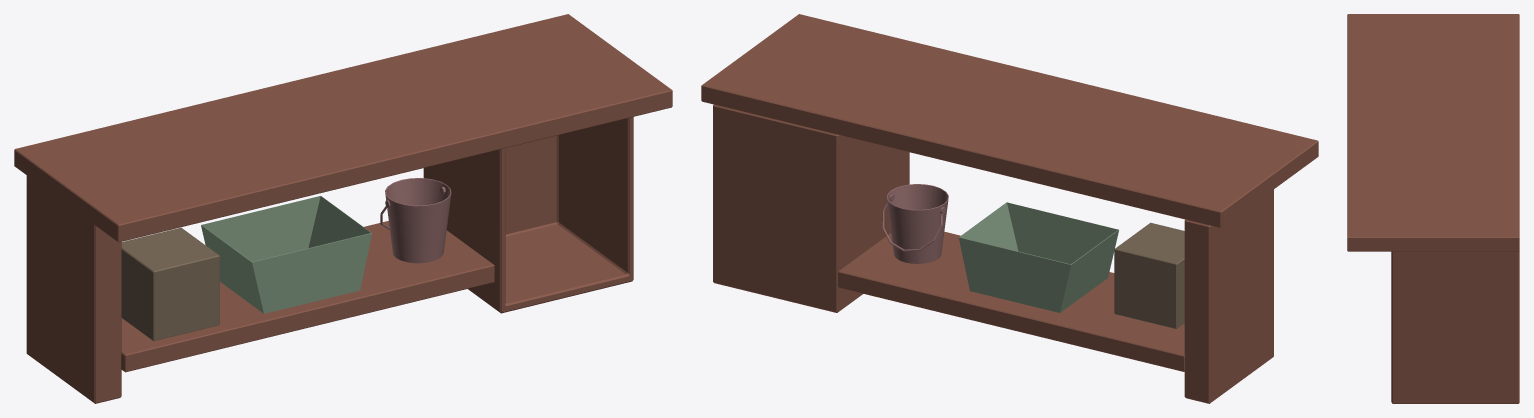
The model's file is WorkbenchGeo.fbx.
3 views of the same model, side by side, from view 1: azimuth 30°, elevation 25°; view 2: azimuth 150°, elevation 25°; view 3: azimuth 270°, elevation 25° (orthographic). The views are drawn at different scales.
Parts seen in each view (by area): view 1: WorkbenchGeo; view 2: WorkbenchGeo; view 3: WorkbenchGeo.
Part boxes in pixels (left/top/right/bottom): WorkbenchGeo: left=14, top=14, right=672, bottom=403; WorkbenchGeo: left=701, top=14, right=1318, bottom=403; WorkbenchGeo: left=1347, top=14, right=1519, bottom=403.
Bounding box in the file's own units: 623 × 224 × 203.
